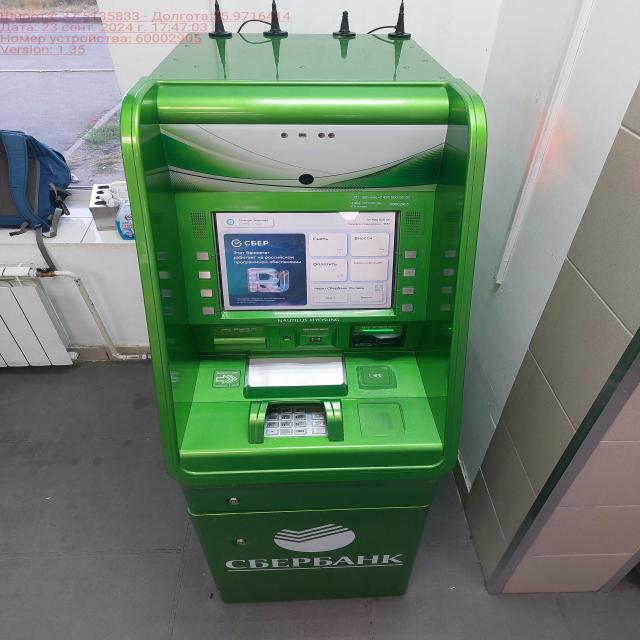bank: (120, 28, 482, 604)
